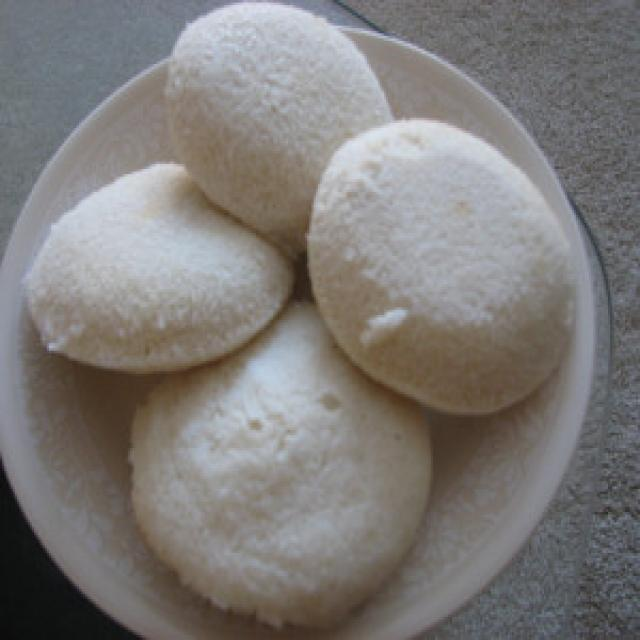Idli: (19, 3, 589, 632), (303, 118, 580, 420), (164, 3, 395, 269)
